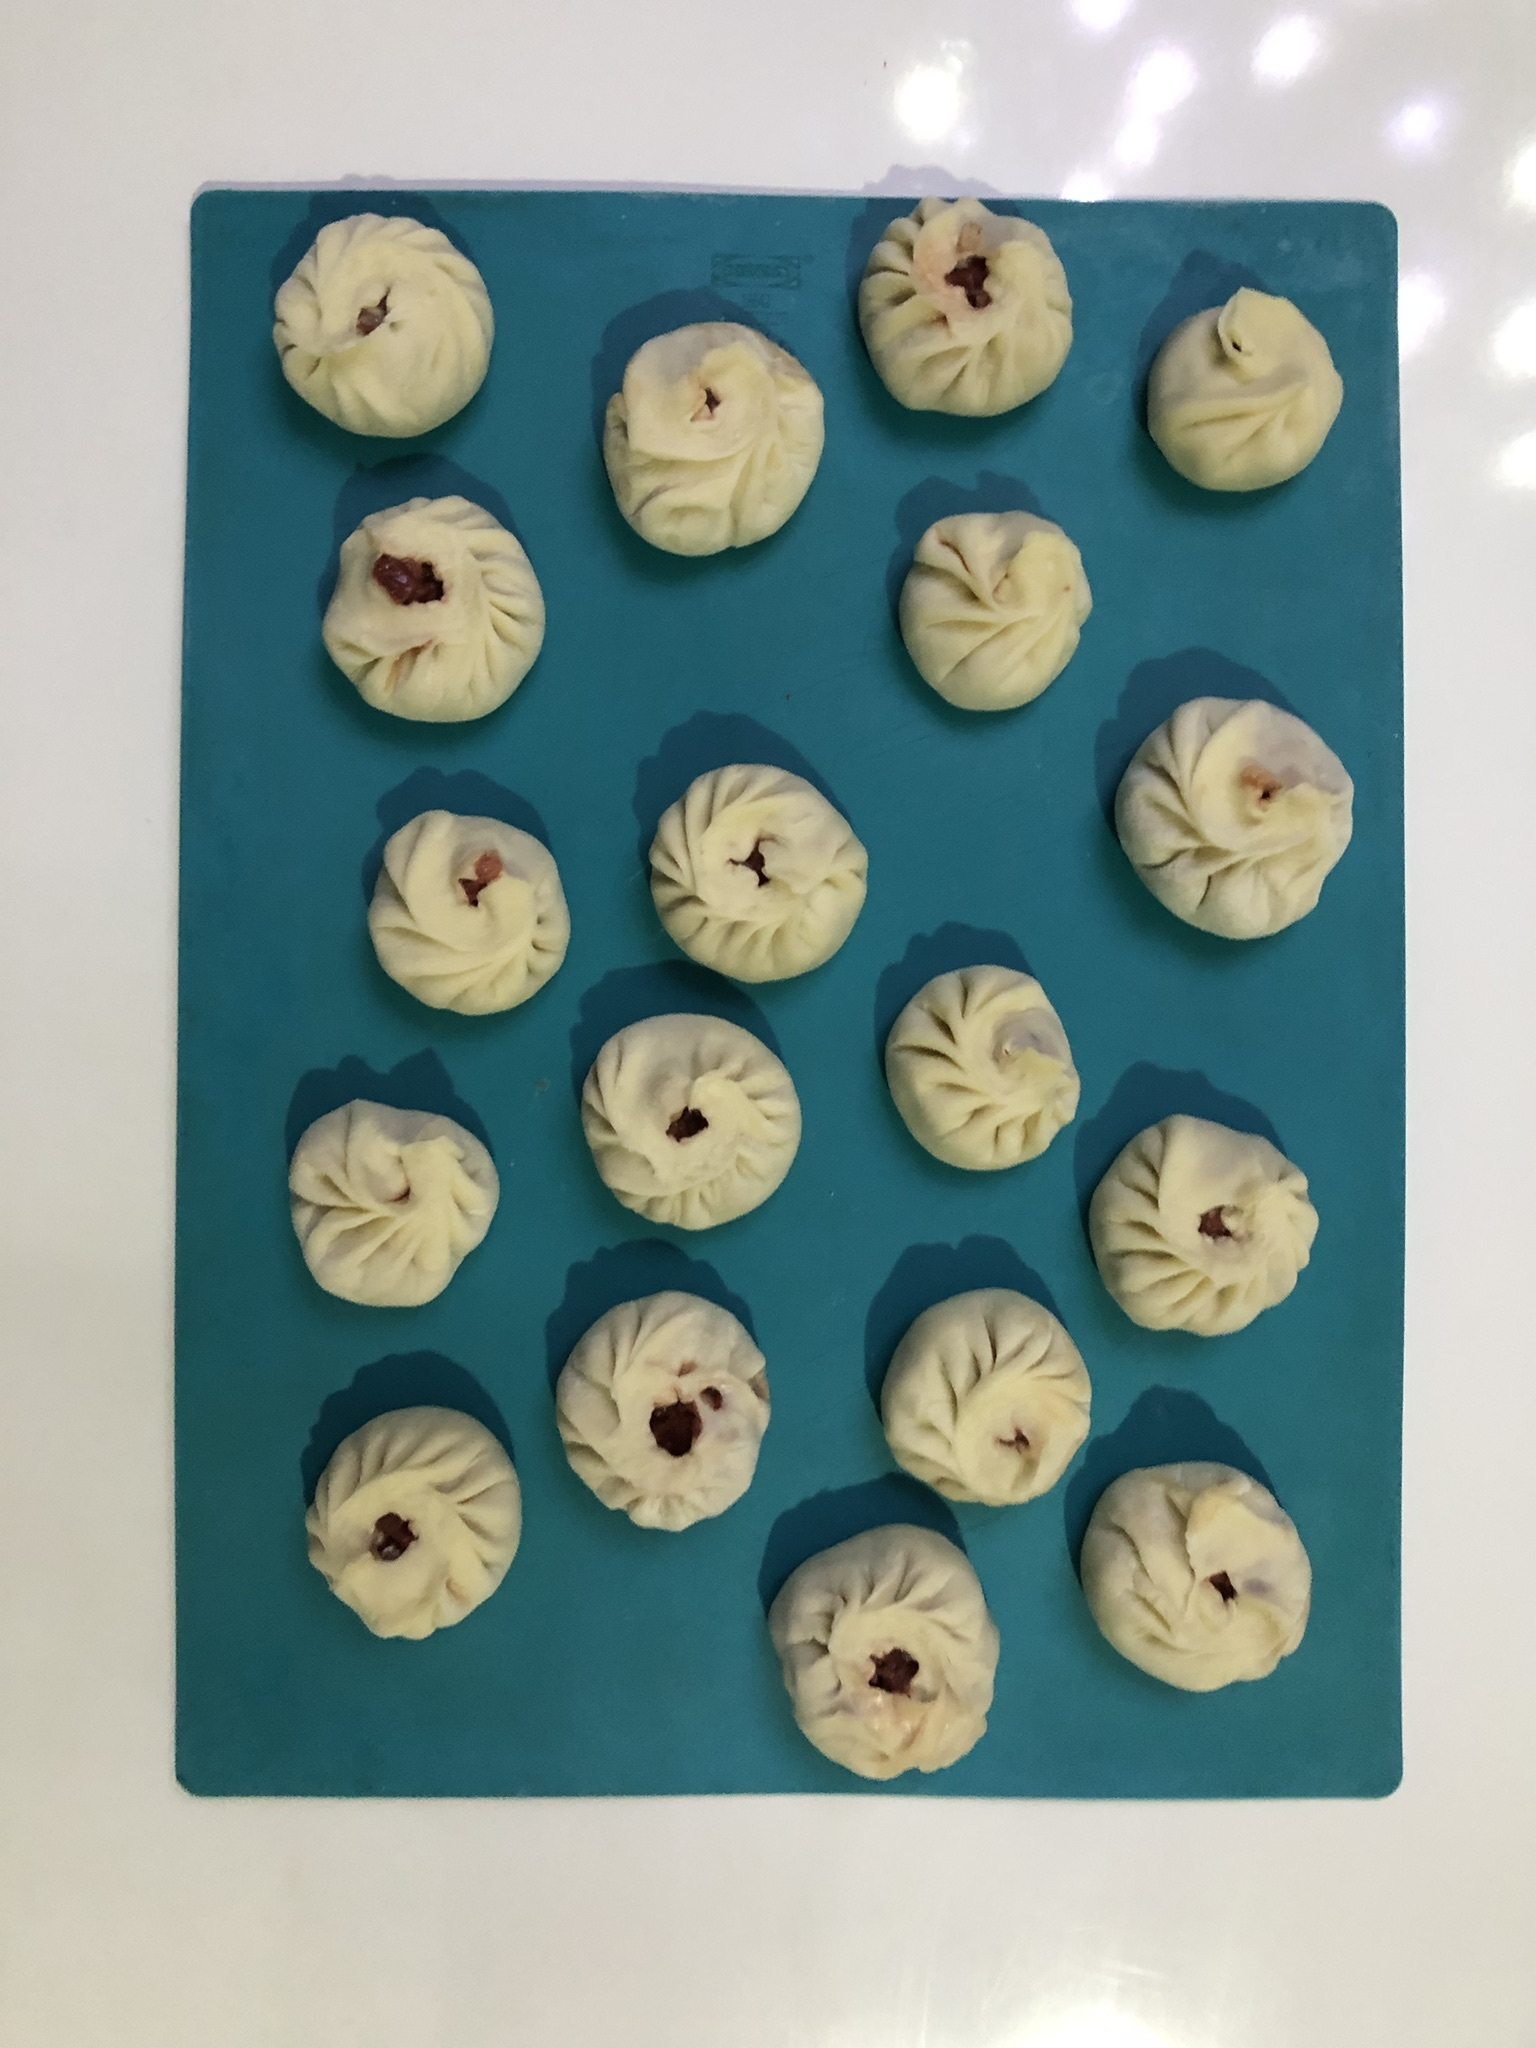buuz: (757, 1516, 1013, 1793), (587, 298, 839, 574), (536, 1277, 795, 1543), (1099, 689, 1362, 948), (1065, 1450, 1329, 1701), (290, 1393, 537, 1658), (1075, 1103, 1329, 1351), (310, 487, 561, 735), (636, 751, 884, 992), (261, 206, 508, 447), (866, 1279, 1107, 1522), (570, 1005, 813, 1242), (849, 194, 1087, 431), (274, 1089, 510, 1319), (881, 505, 1105, 727), (1137, 281, 1352, 511), (878, 948, 1084, 1184), (358, 806, 573, 1026)
